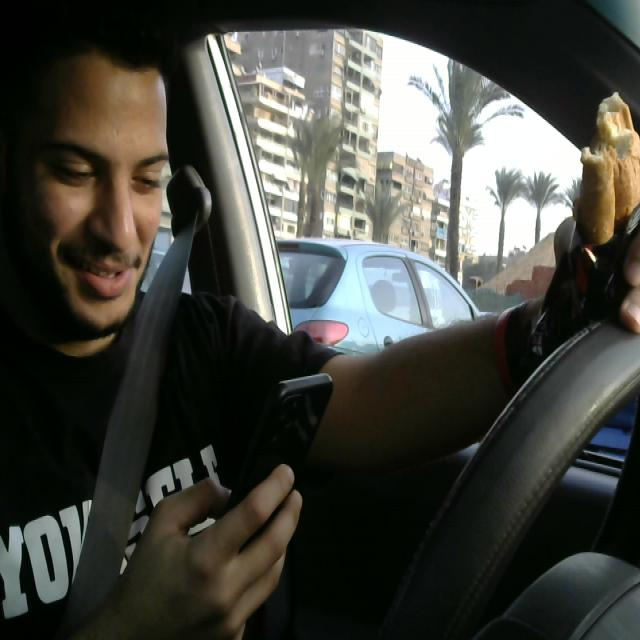eating: (581, 92, 640, 333)
mobile use: (219, 372, 337, 575)
